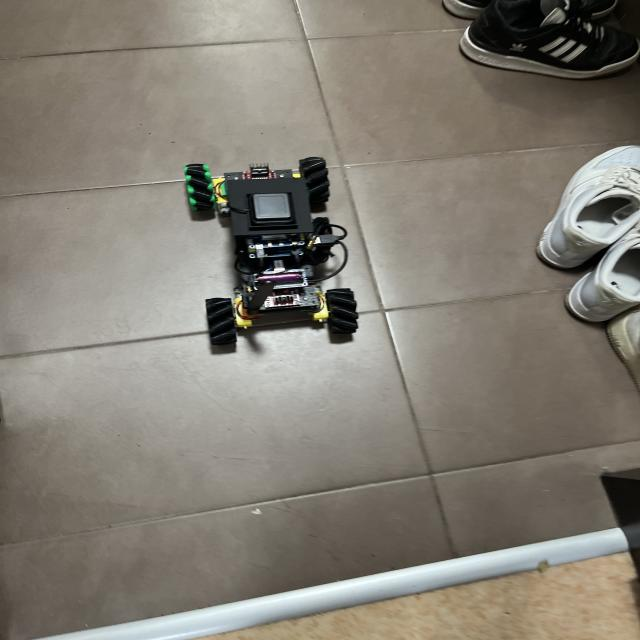robot: (184, 157, 358, 345)
